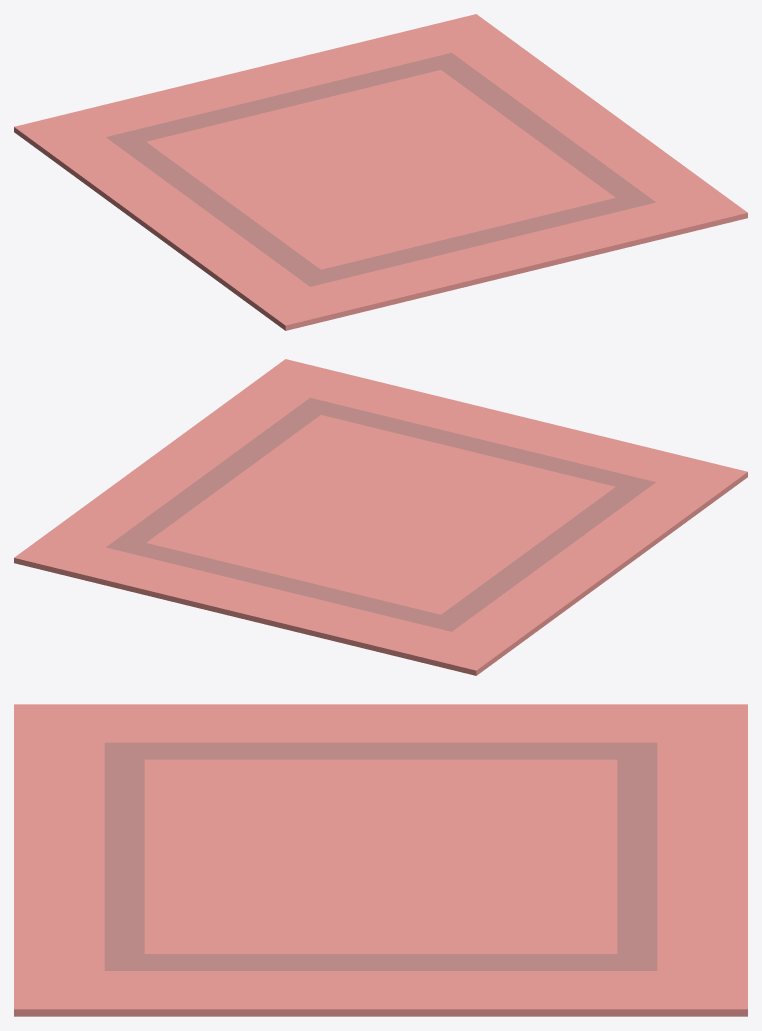
The model's file is rugSquare.glb.
3 views of the same model, one above another, from view 1: azimuth 30°, elevation 25°; view 2: azimuth 150°, elevation 25°; view 3: azimuth 270°, elevation 25° (orthographic). The views are drawn at different scales.
Parts seen in each view (by area): view 1: rugSquare; view 2: rugSquare; view 3: rugSquare.
Part boxes in pixels (x1,y1,x2,y2): rugSquare: [14, 14, 747, 330]; rugSquare: [14, 359, 747, 675]; rugSquare: [14, 704, 747, 1016].
Size of the model in its own units: 0.9043 by 0.01 by 0.92.
